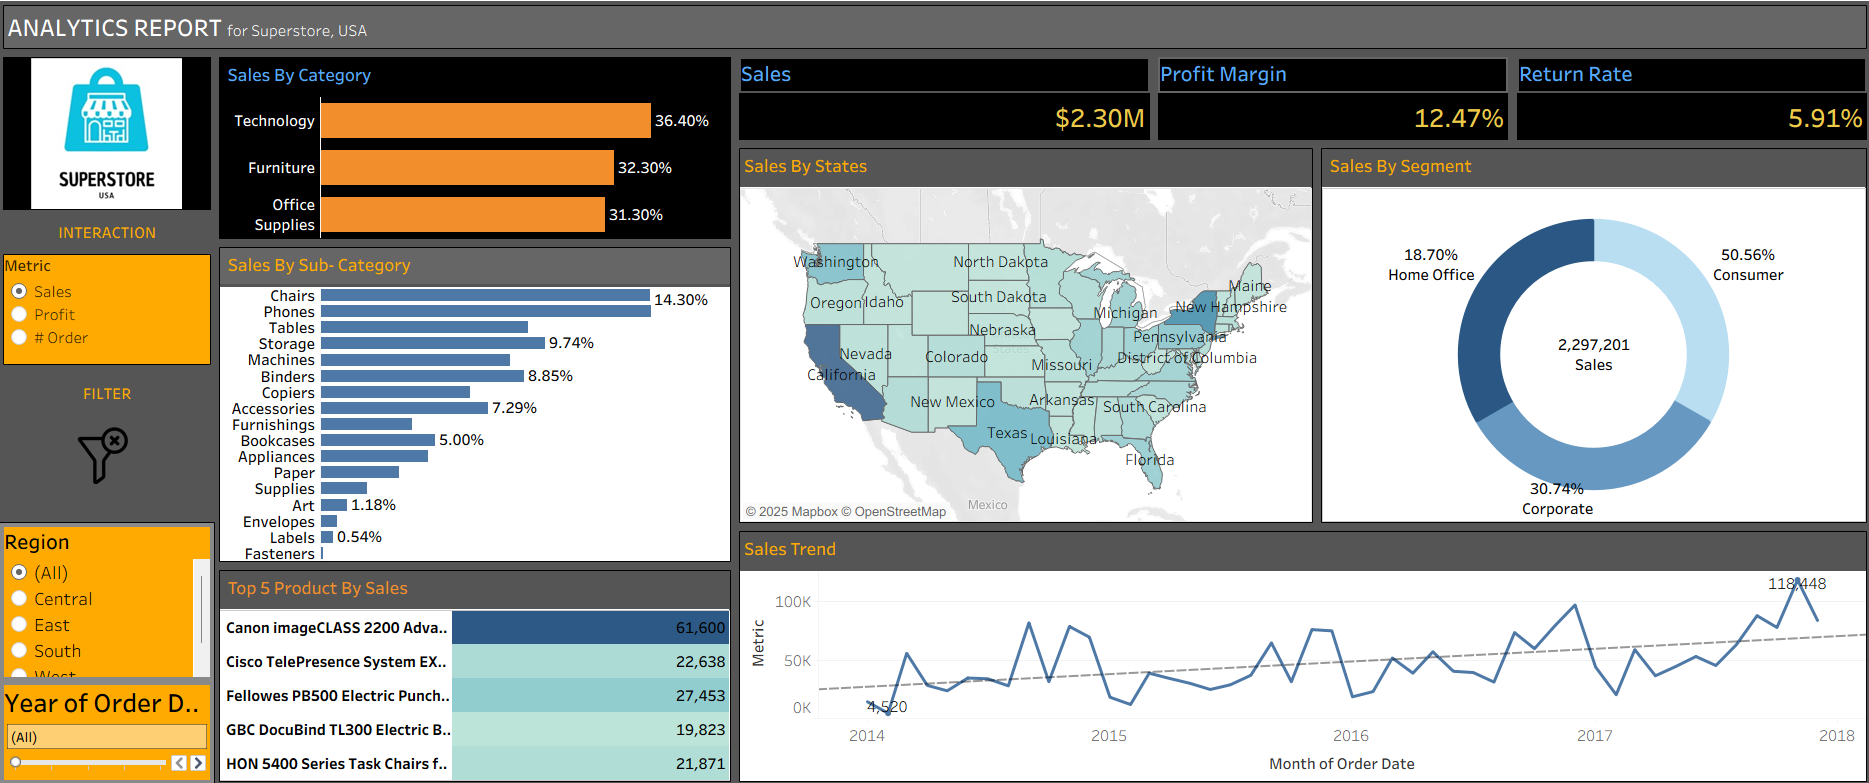

This screenshot's page, from the dashboard's own definition file:
{"tool":"tableau","page":{"name":"Dashboard 1","canvas":[1000,1000],"units":"permille","ordinal":0},"visuals":[{"type":"text","box":[4.2,10,991.5,64.9]},{"type":"image","param":"Image/Picture1.jpg","box":[4.2,74.9,114.4,200.5]},{"type":"worksheet","title":"Category","mark":"Automatic","rows":["Category"],"box":[118.7,74.9,275.3,236.7]},{"type":"worksheet","title":"Assignment 7","mark":"Automatic","box":[393.9,74.9,222.1,113.3]},{"type":"worksheet","title":"Profit Margin","mark":"Automatic","box":[616.1,74.9,189.8,113.3]},{"type":"worksheet","title":"Return Rate","mark":"Automatic","box":[805.9,74.9,189.9,113.3]},{"type":"worksheet","title":"Map","mark":"Multipolygon","box":[393.9,188.2,308.2,478.5]},{"type":"worksheet","title":"Segment","mark":"Pie","rows":["Calculation_1013028502673682438","Calculation_1013028502673715208"],"box":[702.1,188.2,293.6,478.5]},{"type":"text","box":[4.2,275.4,114.4,45.1]},{"type":"worksheet","title":"Sub-Category (4)","mark":"Automatic","rows":["Sub-Category"],"box":[118.7,311.6,275.3,403.3]},{"type":"parameter","param":"[Parameters].[Parameter 2]","box":[4.2,320.6,114.4,148.9]},{"type":"text","box":[4.2,469.5,114.4,59.9]},{"type":"dashboard-object","box":[37.1,541.8,44,71.2]},{"type":"filter","title":"Assignment 7","param":"[federated.1otprw11td3gz418opxag1jh8336].[none:Region:nk]","box":[4.8,661.6,113.4,197.3]},{"type":"worksheet","title":"Trend","mark":"Automatic","rows":["Calculation_1013028502641074177"],"cols":["Order Date"],"box":[393.9,666.7,601.8,323.3]},{"type":"worksheet","title":"Product","mark":"Square","rows":["Product Name"],"box":[118.7,714.9,275.3,275.1]},{"type":"filter","title":"Assignment 7","param":"[federated.1otprw11td3gz418opxag1jh8336].[yr:Order Date:ok]","box":[4.8,858.9,113.4,128.6]}]}

Visuals, with their boxes on the dashboard's canvas, which has no fixed pixel size, in thousandths of its width and height (x1, y1, x2, y2). These are canvas units, not pixel positions in the 1869x783 screenshot, which may show the page scaled, cropped or inside an application window:
text: box=[4, 10, 996, 75]
image: box=[4, 75, 119, 275]
"Category" worksheet: box=[119, 75, 394, 312]
"Assignment 7" worksheet: box=[394, 75, 616, 188]
"Profit Margin" worksheet: box=[616, 75, 806, 188]
"Return Rate" worksheet: box=[806, 75, 996, 188]
"Map" worksheet (Multipolygon marks): box=[394, 188, 702, 667]
"Segment" worksheet (Pie marks): box=[702, 188, 996, 667]
text: box=[4, 275, 119, 320]
"Sub-Category (4)" worksheet: box=[119, 312, 394, 715]
parameter: box=[4, 321, 119, 470]
text: box=[4, 470, 119, 529]
dashboard-object: box=[37, 542, 81, 613]
"Assignment 7" filter: box=[5, 662, 118, 859]
"Trend" worksheet: box=[394, 667, 996, 990]
"Product" worksheet (Square marks): box=[119, 715, 394, 990]
"Assignment 7" filter: box=[5, 859, 118, 988]
